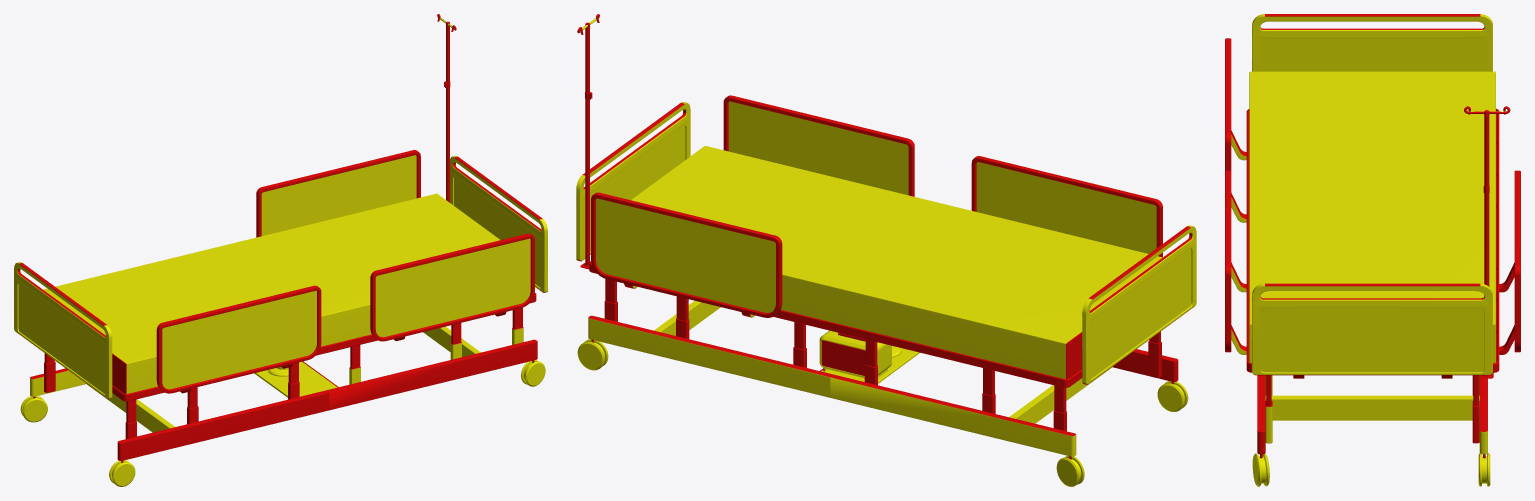
Rendered from SM_Medical_bed_1.fbx.
3 renders of one model, left to right at view 1: azimuth 30°, elevation 25°; view 2: azimuth 150°, elevation 25°; view 3: azimuth 270°, elevation 25°, orthographic. The views are drawn at different scales.
Parts seen in each view (by area): view 1: polySurface105; view 2: polySurface105; view 3: polySurface105.
Boxes of the visible parts, <box> form: polySurface105: <box>14,14,547,486</box>; polySurface105: <box>576,14,1196,486</box>; polySurface105: <box>1225,14,1520,486</box>.
Size of the model in its own units: 272 by 177 by 125.
